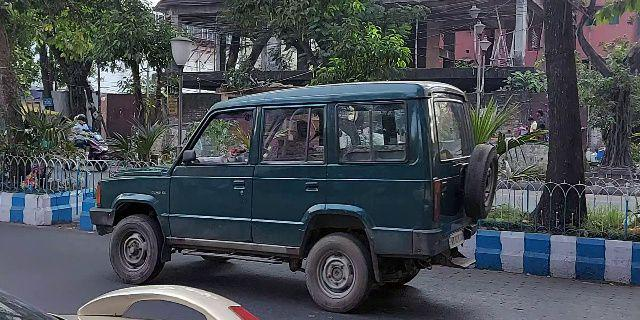Car: (81, 87, 496, 308)
